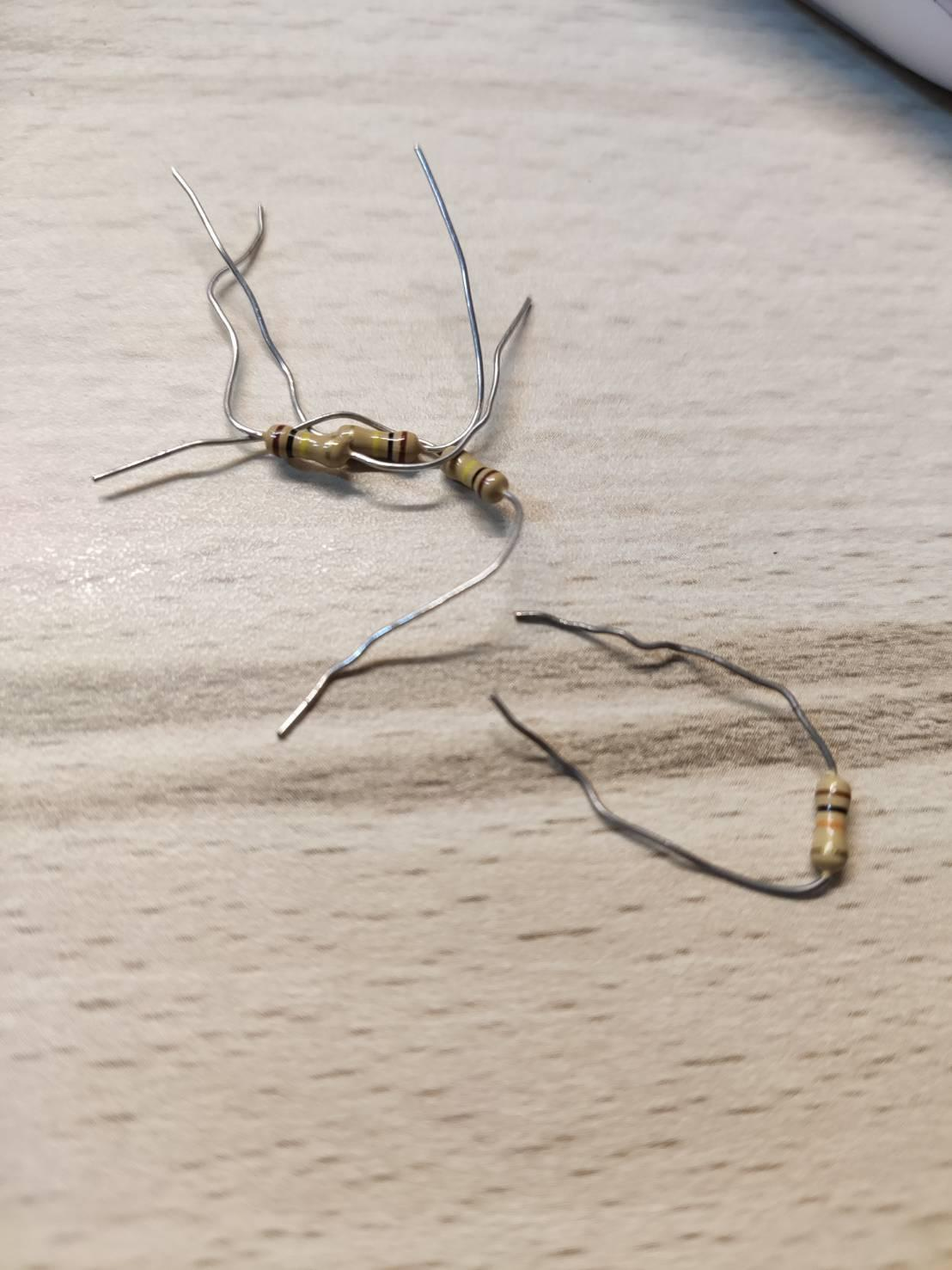resistor: (802, 770, 856, 875), (337, 413, 421, 469), (433, 445, 510, 500), (270, 420, 352, 469)
